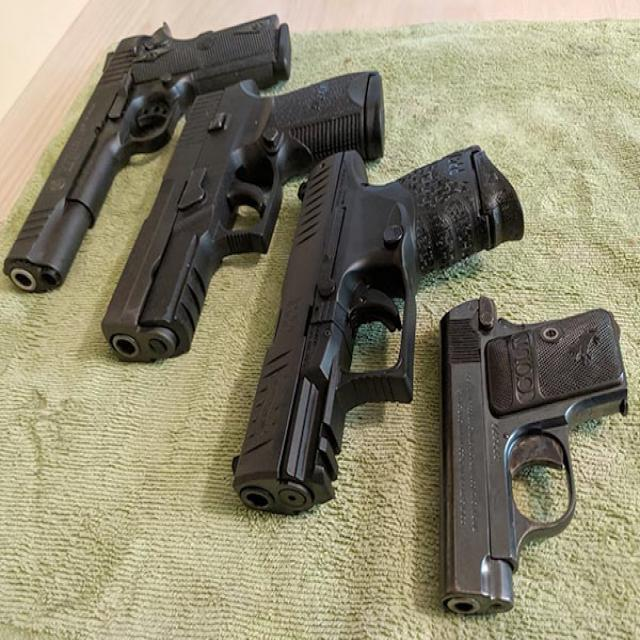pistol: (212, 133, 542, 549), (85, 59, 395, 370), (1, 6, 296, 294), (430, 301, 631, 631)
